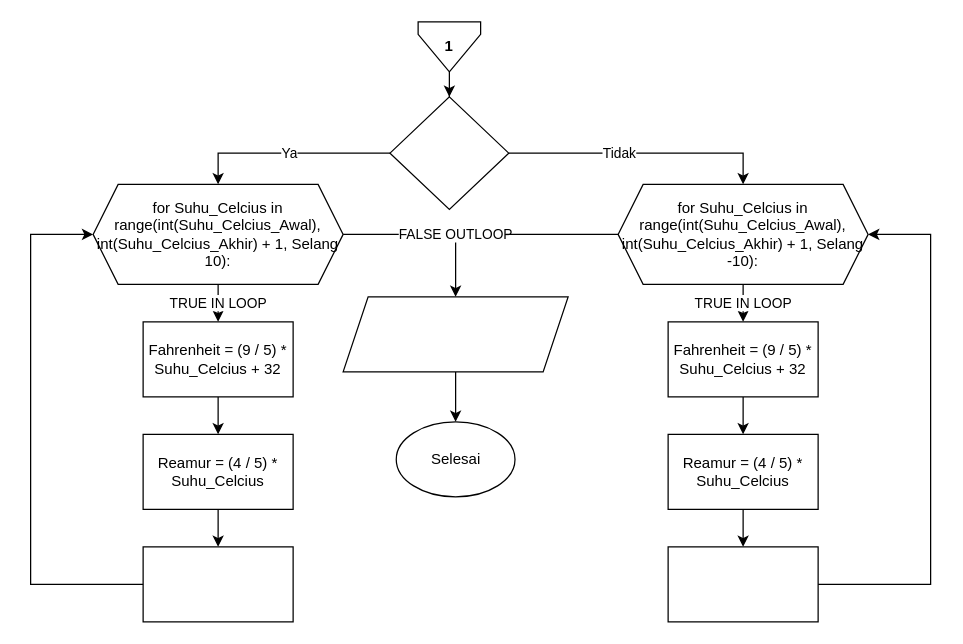
Some shapes in this 963 by 644 pixel diagram are drawn without their labels. The shapes that lost their labels are listed below. From the top down, each one's centre as x and y in pixels, then its label:
the point at 449,152: Jika Awal<=Akhir
the point at 455,334: print(f"{Suhu_Celcius:<12} | {Fahrenheit:<15.2f} | {Reamur:<10.2f}")
the point at 217,584: Suhu_Celcius+1
the point at 742,584: Suhu_Celcius - 1
